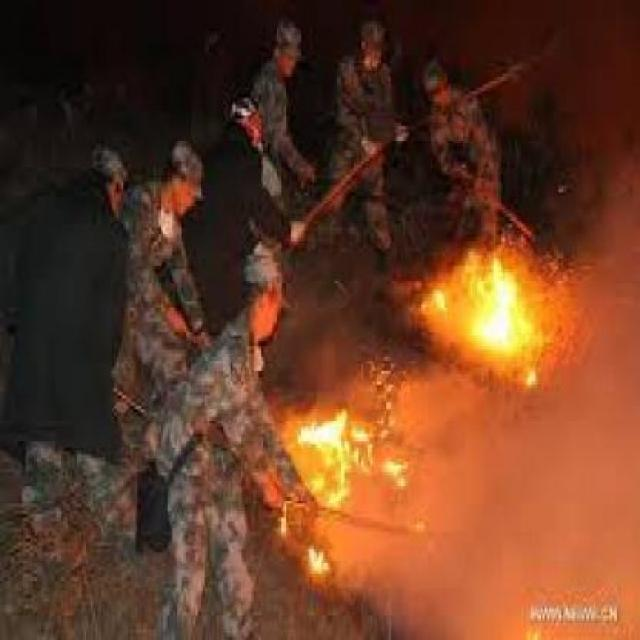Fire: (404, 217, 588, 399), (276, 376, 438, 532)
Smoke: (412, 370, 639, 640)
